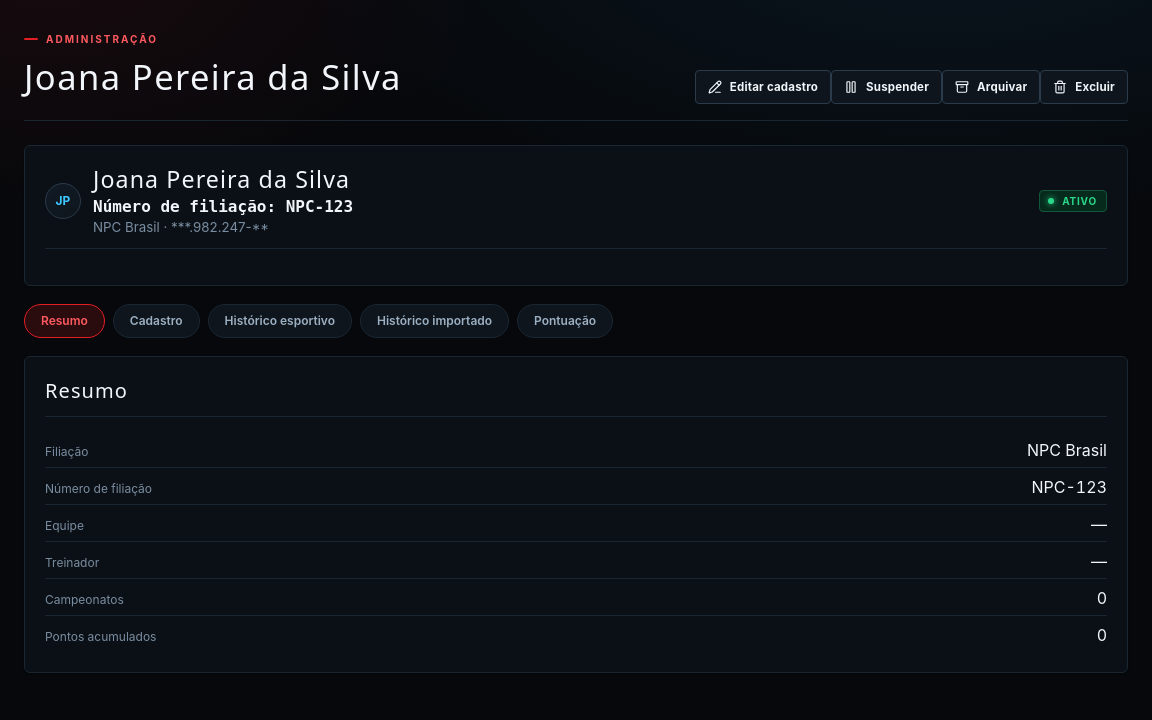
Scenario: a força da pista vem do servidor e aparece na tela › o aviso de homônimos aparece na lista quando o servidor o manda
This screenshot has width=1152, height=720.
Click the button "Histórico importado" at point(435, 321), box [360,304,509,338]
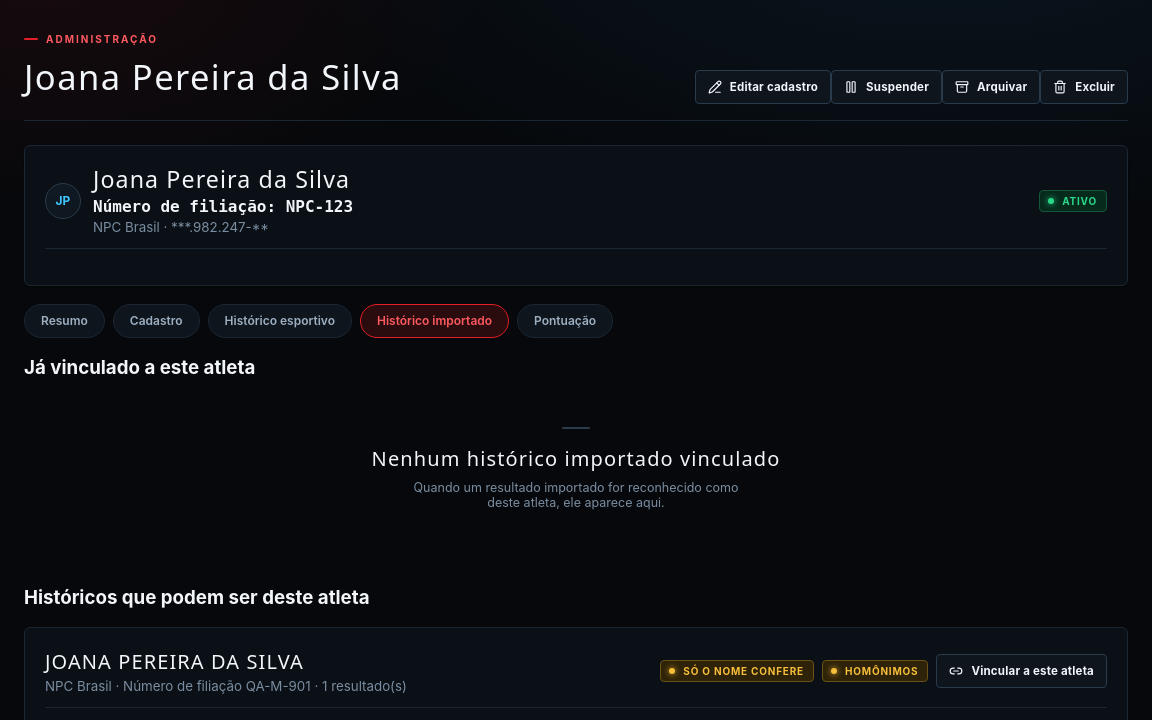
Expected: the text "Homônimos" is shown, [822,660,928,682]
